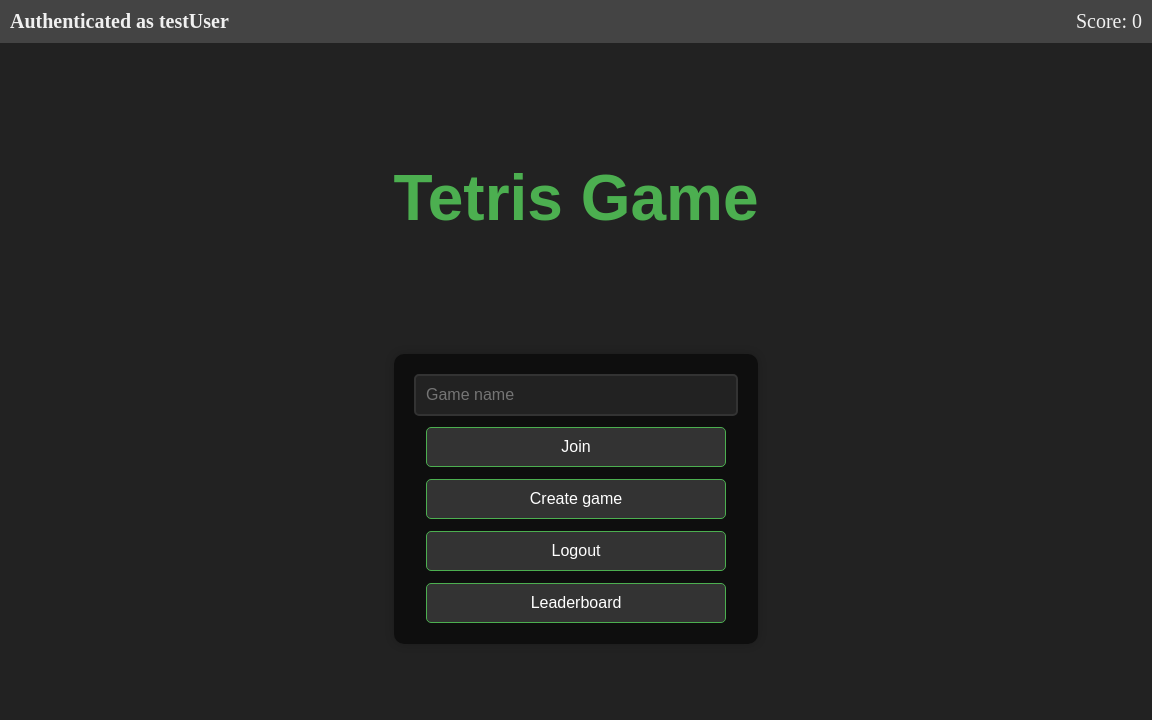
Home Component › should display error message when game name is not entered in handleJoinGame
Click the button "Join" at (576, 447), box [426,427,726,467]
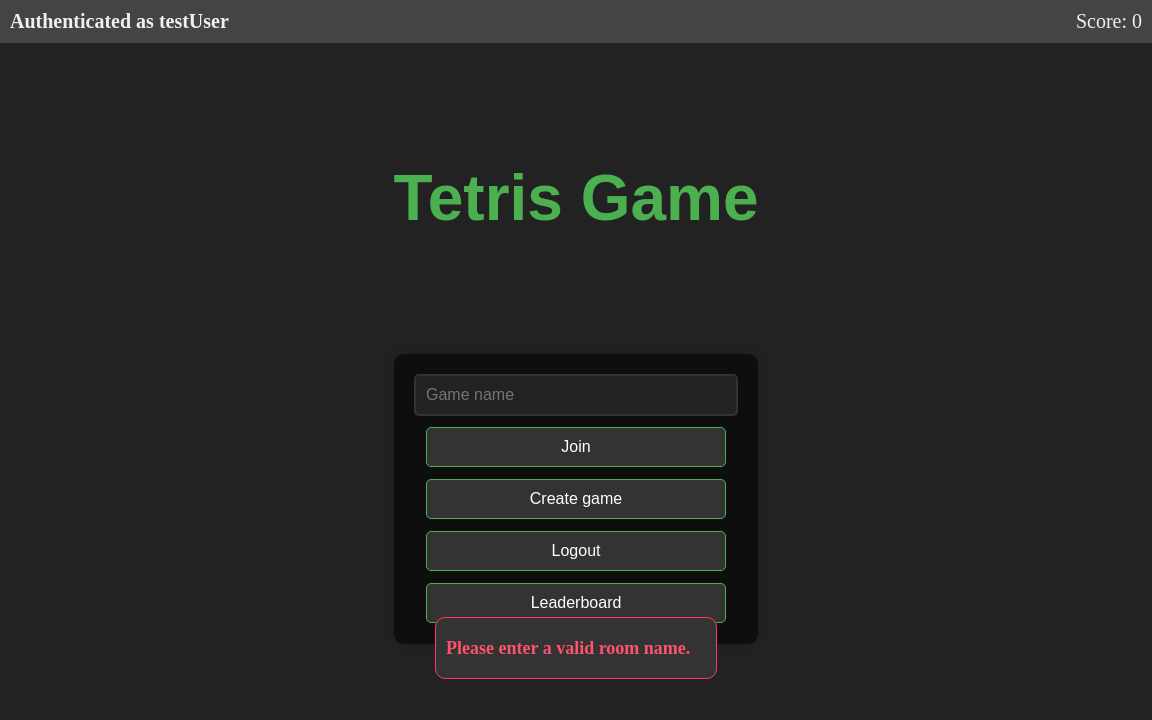
Expected: the text "Please enter a valid room name." is shown, [435,617,717,679]
